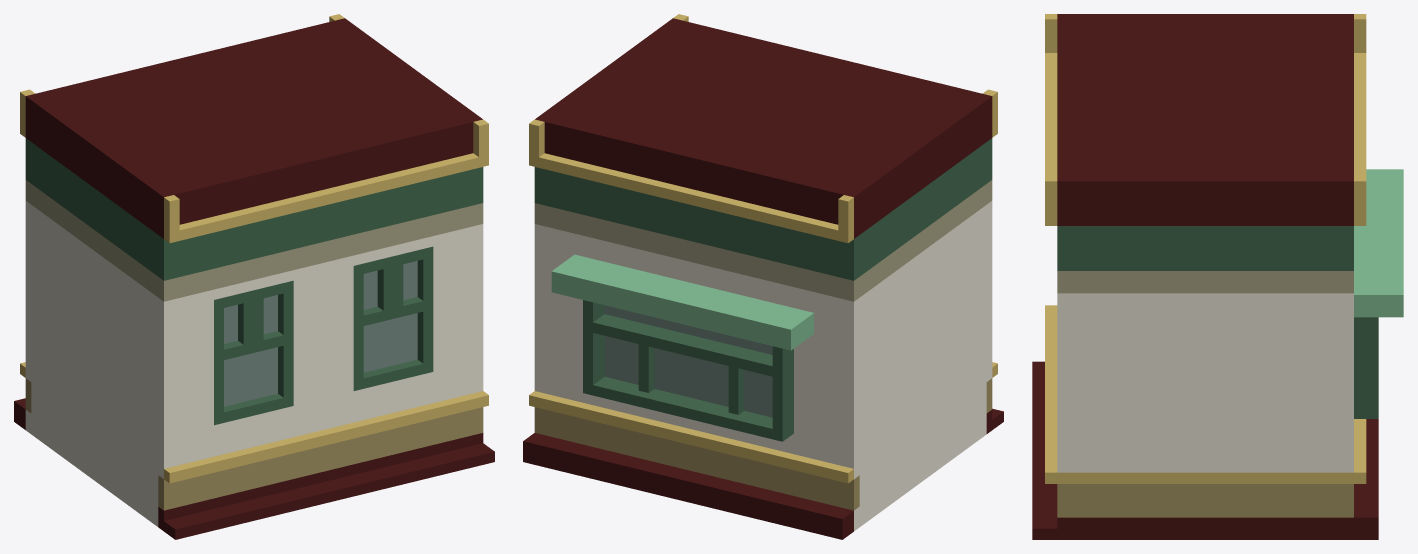
File: tile_1_middle_nr.obj
3 renders of one model, left to right at view 1: azimuth 30°, elevation 25°; view 2: azimuth 150°, elevation 25°; view 3: azimuth 270°, elevation 25°, orthographic. The views are drawn at different scales.
Size of the model in its own units: 3.2 by 3.2 by 3.
